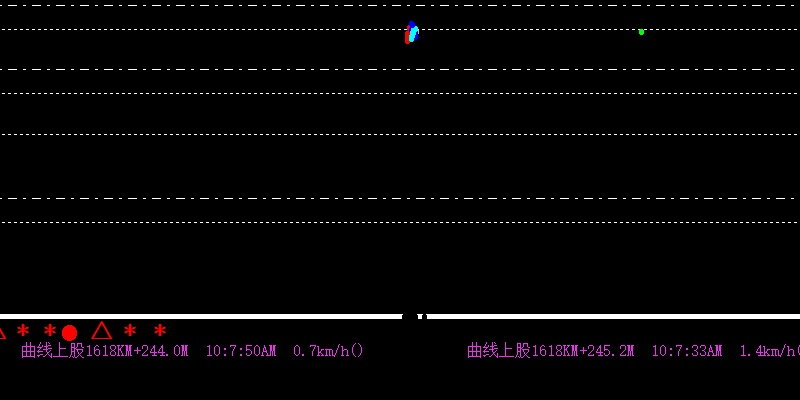circle: (58, 322, 78, 344)
face_1: (634, 24, 646, 39)
face_2: (403, 19, 421, 48)
star: (150, 320, 168, 340), (119, 320, 137, 340), (15, 321, 31, 339), (42, 321, 58, 338)
